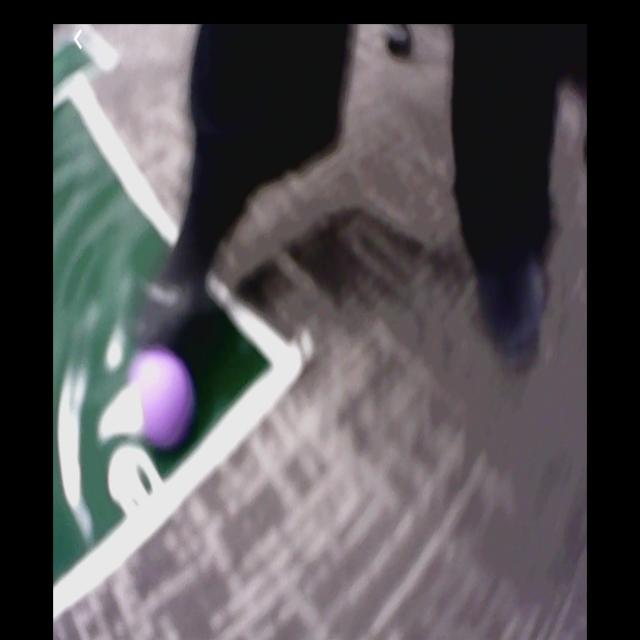ball: (126, 344, 197, 453)
